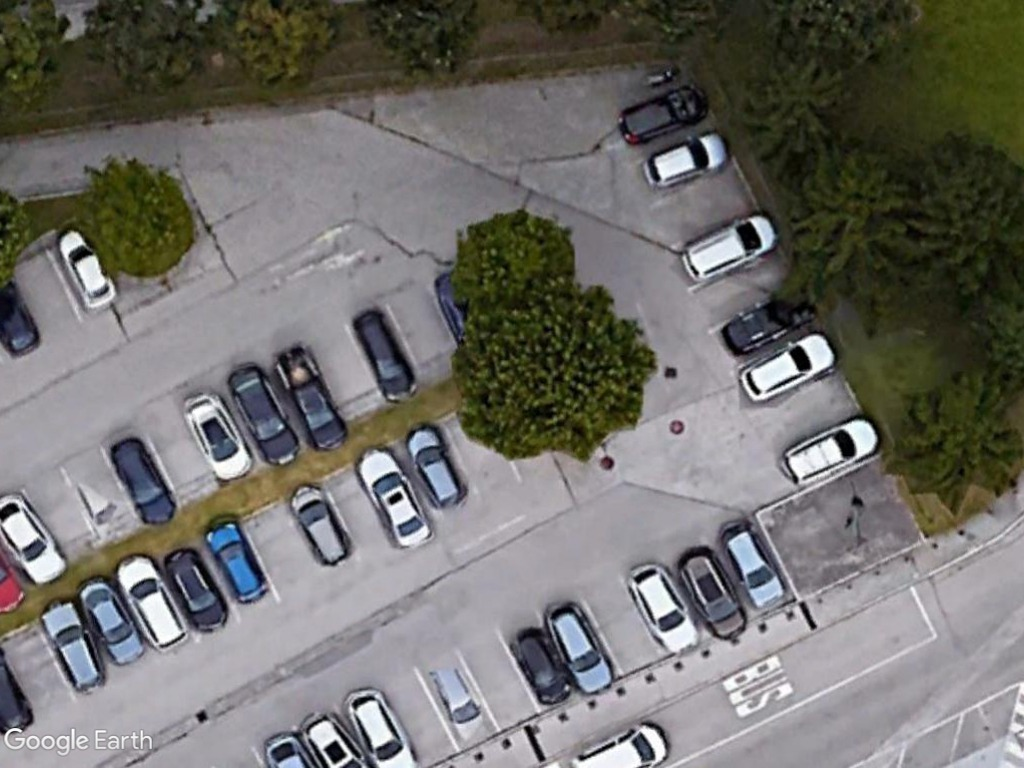car: (223, 358, 301, 471), (354, 446, 434, 553), (775, 414, 882, 491), (673, 209, 778, 287), (733, 328, 837, 405), (113, 552, 190, 652), (674, 549, 752, 644), (544, 599, 617, 699), (613, 76, 711, 149), (40, 600, 112, 697), (628, 561, 700, 656), (183, 389, 254, 484), (72, 576, 145, 668), (351, 305, 419, 403), (718, 520, 788, 612), (106, 438, 179, 526), (504, 618, 574, 709), (163, 545, 232, 636), (202, 520, 272, 608), (637, 126, 729, 192), (0, 489, 64, 582), (286, 480, 352, 569), (55, 226, 119, 311), (406, 425, 466, 515)
other: (271, 340, 349, 455)
